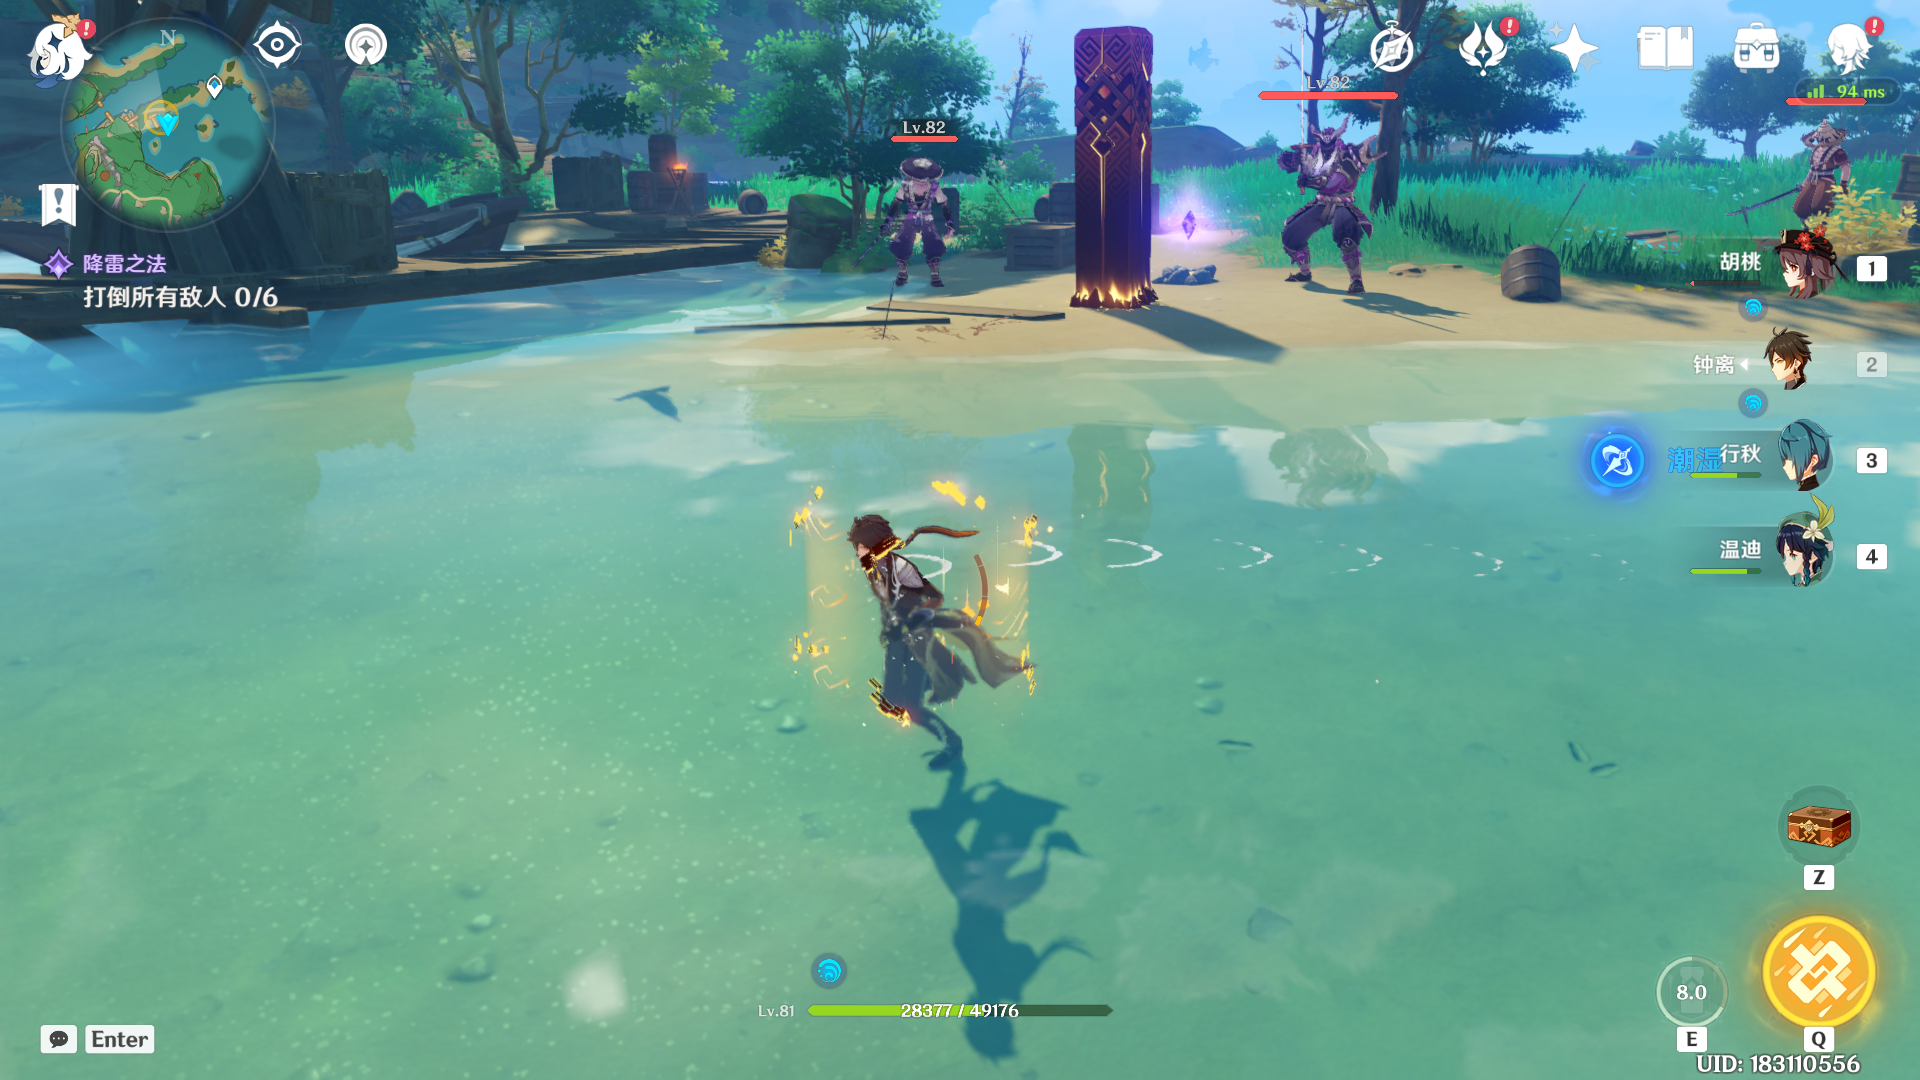character: (811, 489, 1047, 789)
samurai: (1244, 75, 1416, 324), (836, 125, 988, 303)
